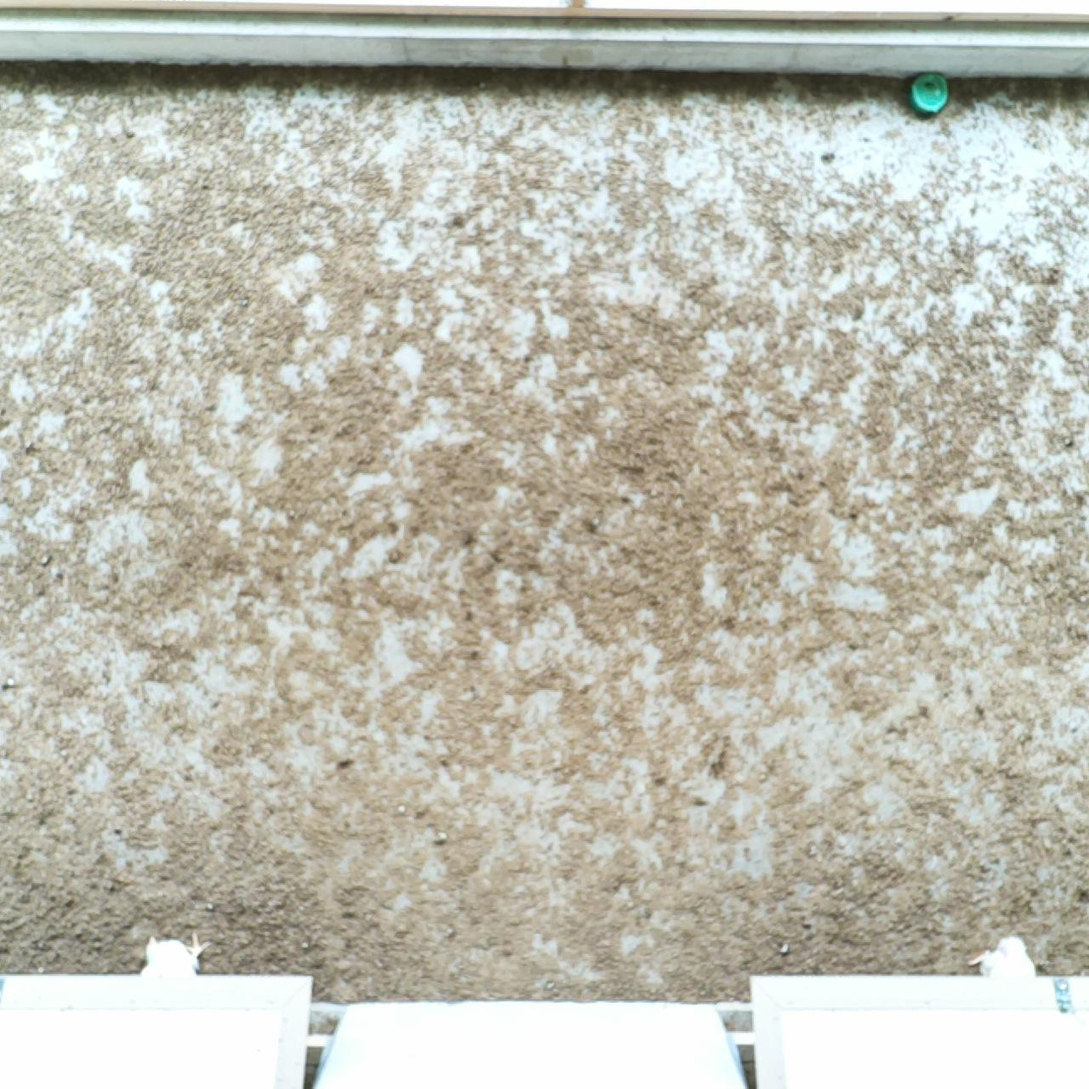chicken: (970, 937, 1043, 978), (143, 934, 211, 976)
